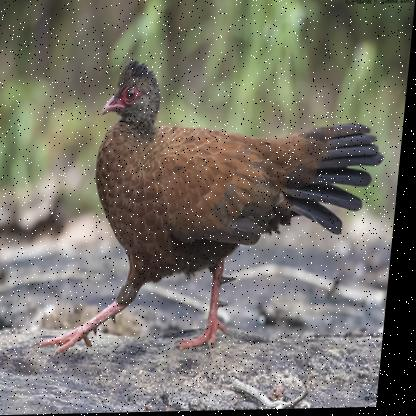Burung: (48, 58, 384, 352)
